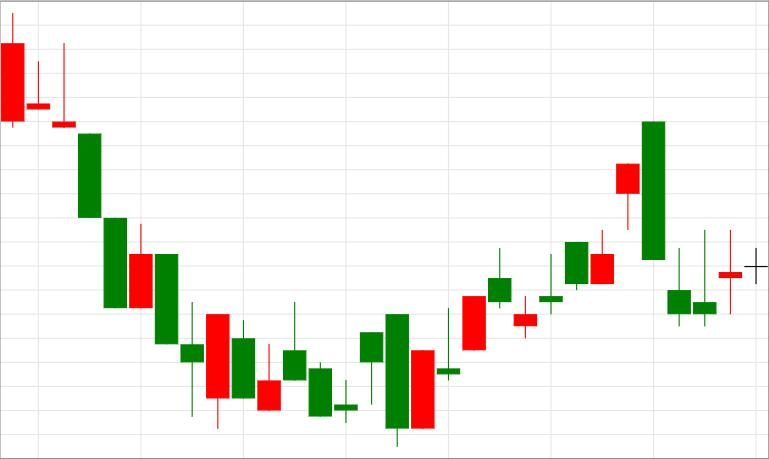bearish_engulfing_fall: (514, 121, 666, 341)
